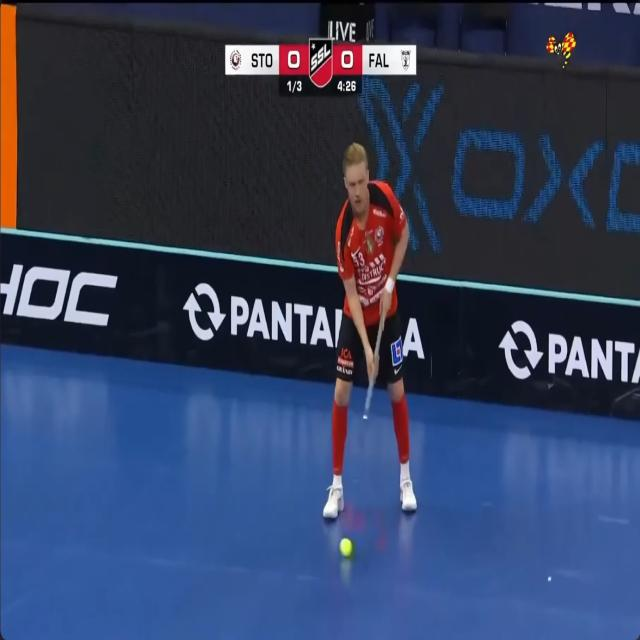Balls: (339, 537, 353, 558)
player: (323, 143, 416, 517)
stick: (363, 377, 375, 419), (374, 315, 384, 363)
